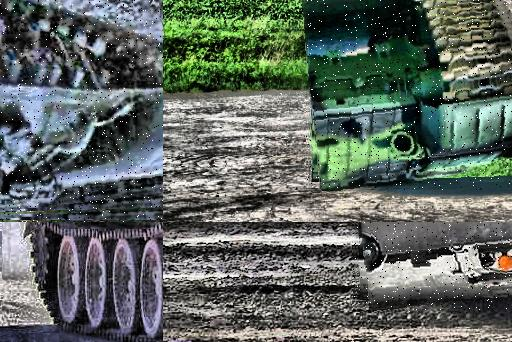tanks: (308, 1, 512, 191), (1, 1, 164, 216), (28, 223, 164, 342), (362, 223, 512, 312)
